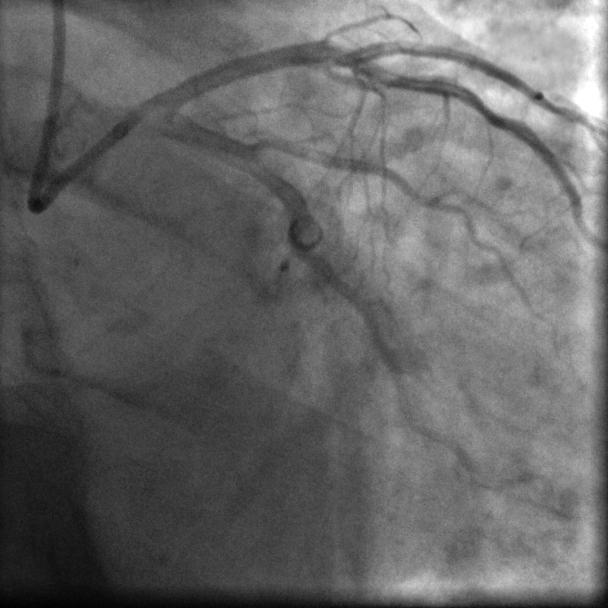Stenosis: (249, 125, 287, 159)
